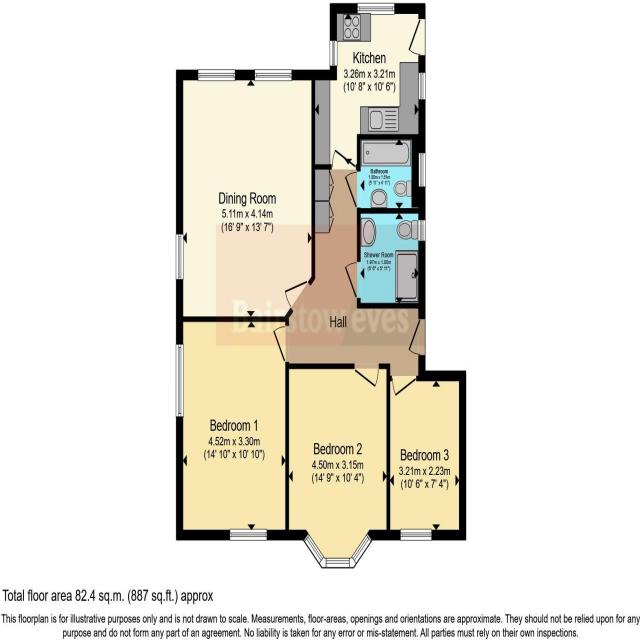DOOR: (283, 278, 315, 313), (340, 256, 362, 302), (406, 317, 426, 361), (330, 144, 361, 172), (352, 363, 383, 389), (342, 168, 360, 212), (390, 373, 418, 400), (271, 323, 289, 365), (407, 19, 426, 58)
ROOM: (176, 70, 315, 322), (176, 316, 289, 541), (285, 363, 390, 569), (311, 2, 426, 171), (386, 374, 467, 540)
WINDOW: (301, 530, 374, 573), (175, 342, 185, 419), (197, 67, 236, 85), (229, 526, 269, 543), (253, 66, 293, 83), (356, 1, 396, 16), (174, 231, 185, 283), (399, 527, 433, 543), (418, 151, 427, 188), (328, 37, 338, 67), (418, 70, 427, 101), (418, 217, 427, 242)
